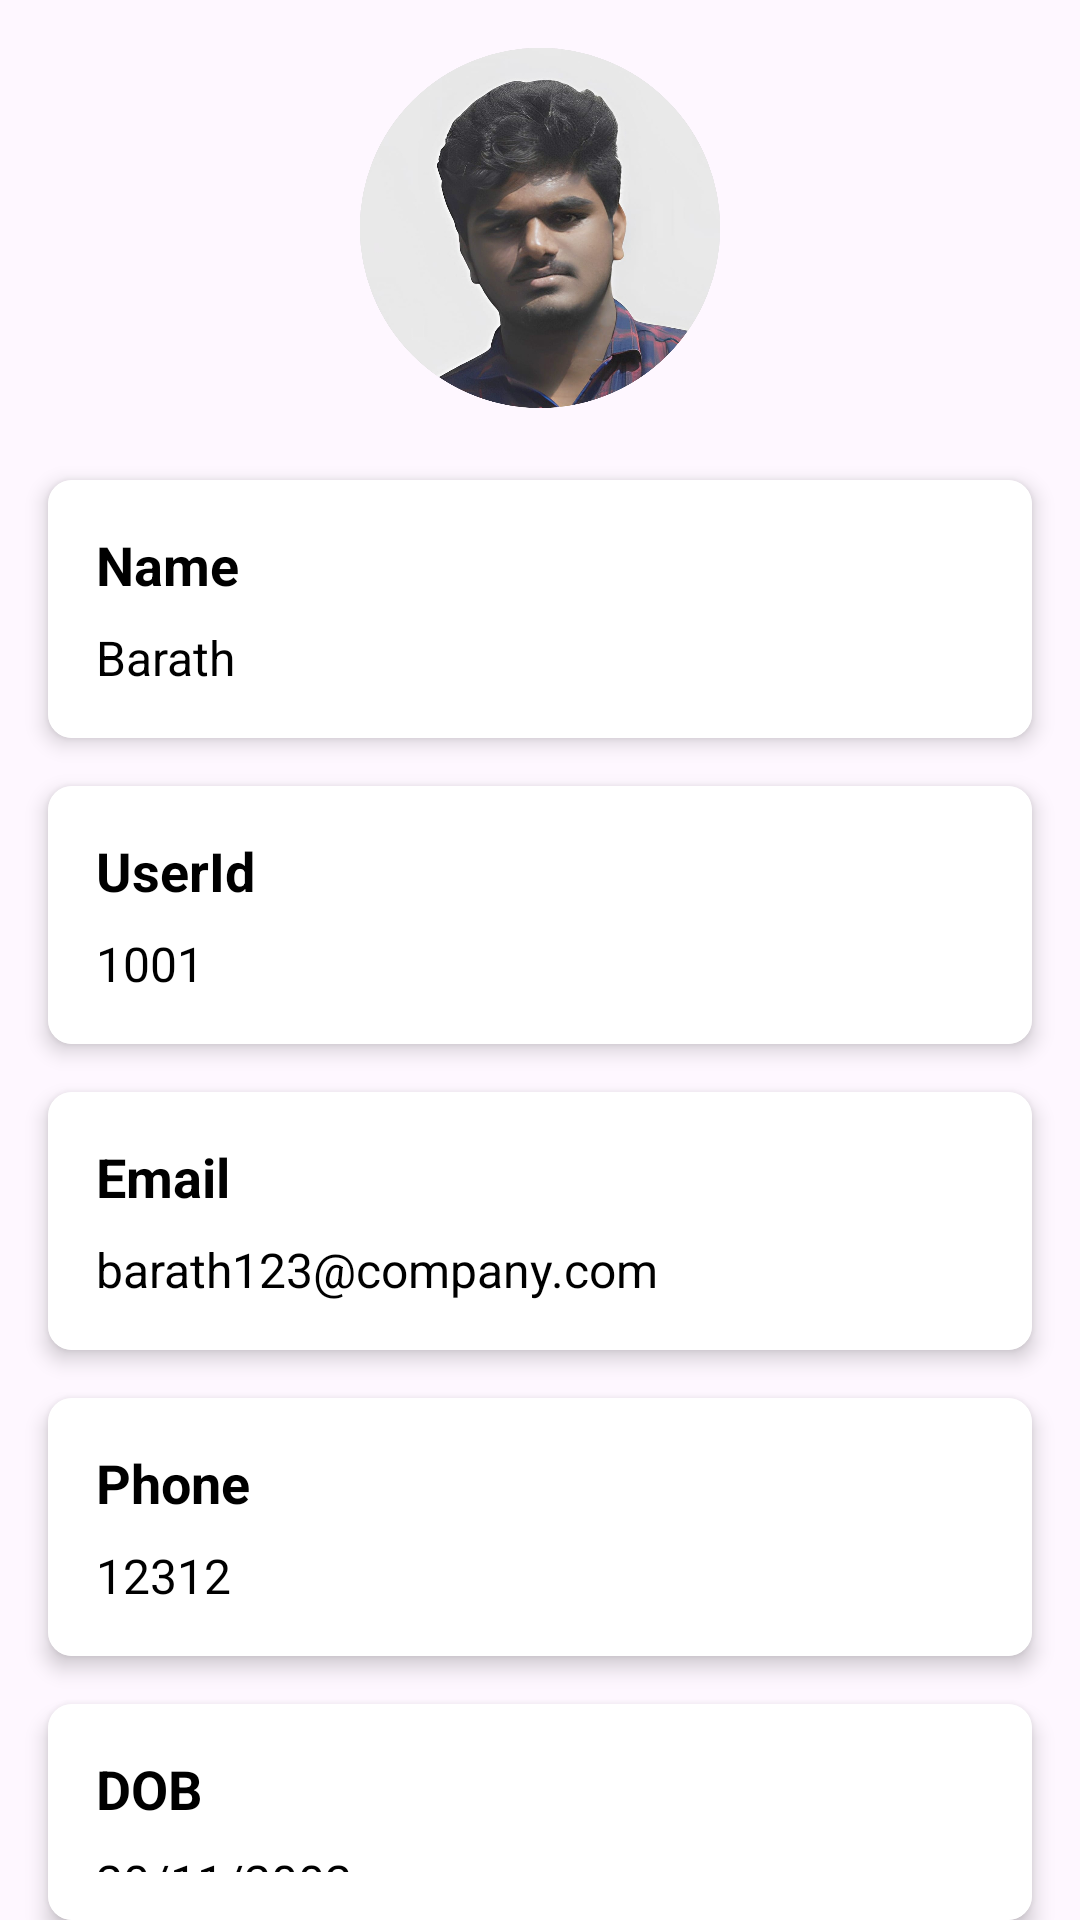

Icon click points for this 1080 × 1920 phone screenshot, format [x,y]:
Profile Picture: [540,228]
